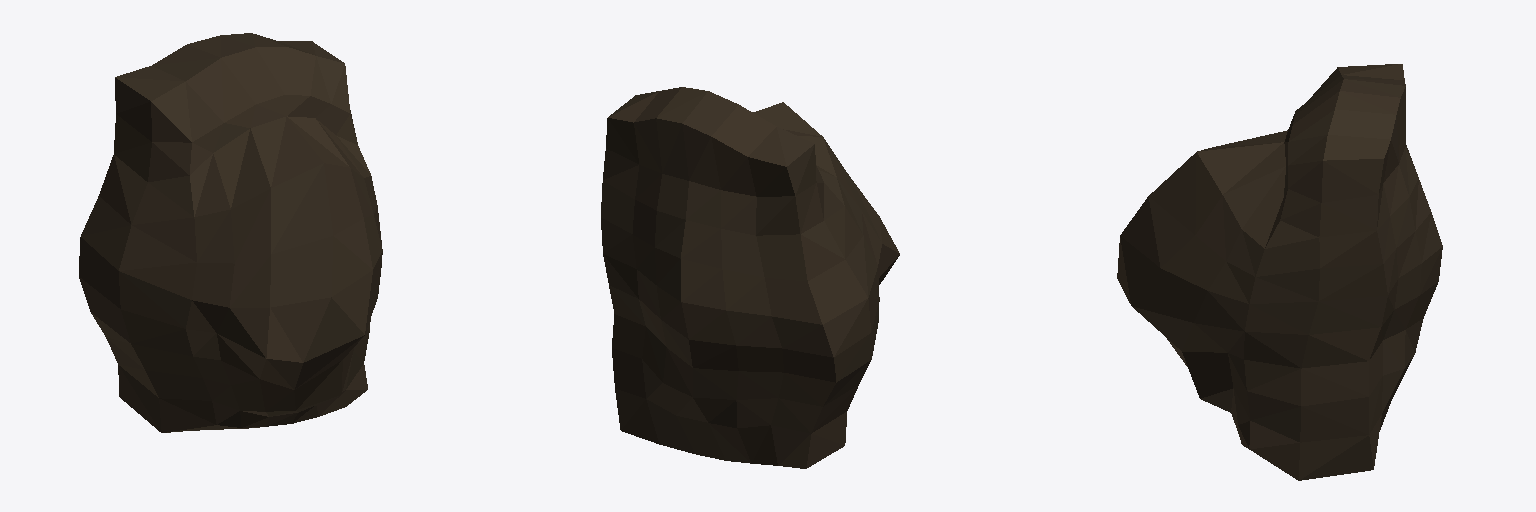
Rendered from rock.obj.
3 renders of one model, left to right at view 1: azimuth 30°, elevation 25°; view 2: azimuth 150°, elevation 25°; view 3: azimuth 270°, elevation 25°, orthographic.
Parts seen in each view (by area): view 1: Cube; view 2: Cube; view 3: Cube.
Boxes of the visible parts, x1,y1,x2,y2 form: Cube: [79, 33, 382, 432]; Cube: [601, 87, 899, 468]; Cube: [1117, 64, 1442, 480].
Bounding box in the file's own units: 0.756 × 1.07 × 0.8765.